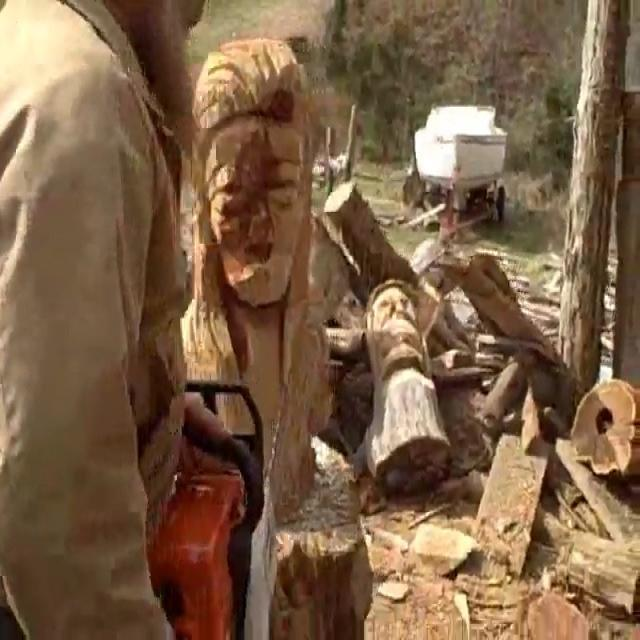Chainsaw: (121, 356, 333, 640)
